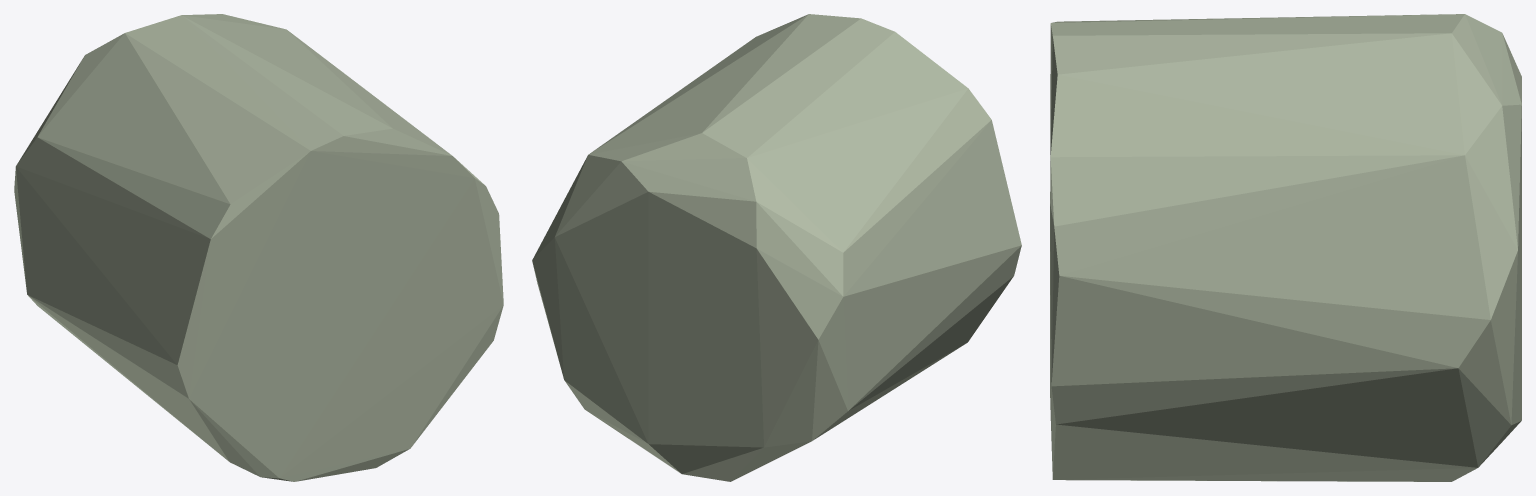
Rendered from kitchenware_cup_d01.glb.
3 renders of one model, left to right at view 1: azimuth 30°, elevation 25°; view 2: azimuth 150°, elevation 25°; view 3: azimuth 270°, elevation 25°, orthographic. The views are drawn at different scales.
Visible parts, largest first — view 1: geometry_0; view 2: geometry_0; view 3: geometry_0.
Boxes of the visible parts, x1=… form: geometry_0: x1=14, y1=14, x2=503, y2=481; geometry_0: x1=532, y1=14, x2=1021, y2=481; geometry_0: x1=1050, y1=14, x2=1521, y2=481.
Size of the model in its own units: 0.4762 by 0.4746 by 0.48.
